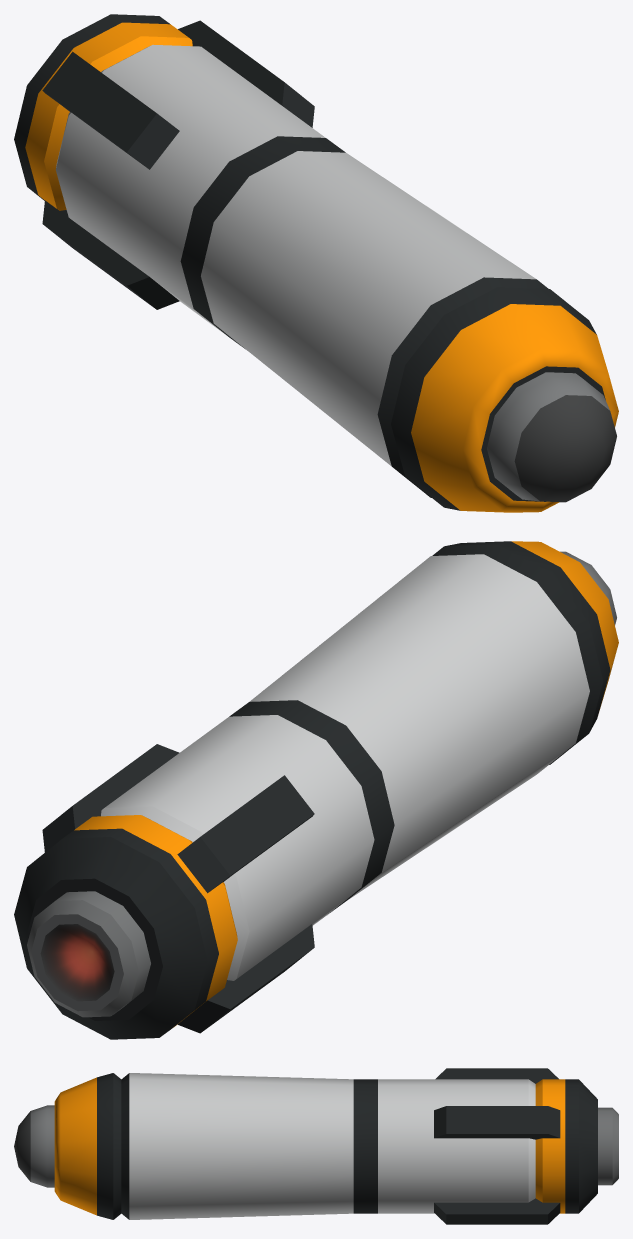
Rendered from Missile_001.glb.
3 renders of one model, top to bottom at view 1: azimuth 30°, elevation 25°; view 2: azimuth 150°, elevation 25°; view 3: azimuth 270°, elevation 25°, orthographic. The views are drawn at different scales.
Visible parts, largest first — view 1: Missile_001; view 2: Missile_001; view 3: Missile_001.
Part boxes in pixels (bbox=[...]): Missile_001: bbox=[14, 14, 618, 512]; Missile_001: bbox=[14, 541, 618, 1039]; Missile_001: bbox=[14, 1068, 618, 1224].
Size of the model in its own units: 0.1921 by 0.1921 by 0.7864.
Materials: 1 (1 with a texture image).
